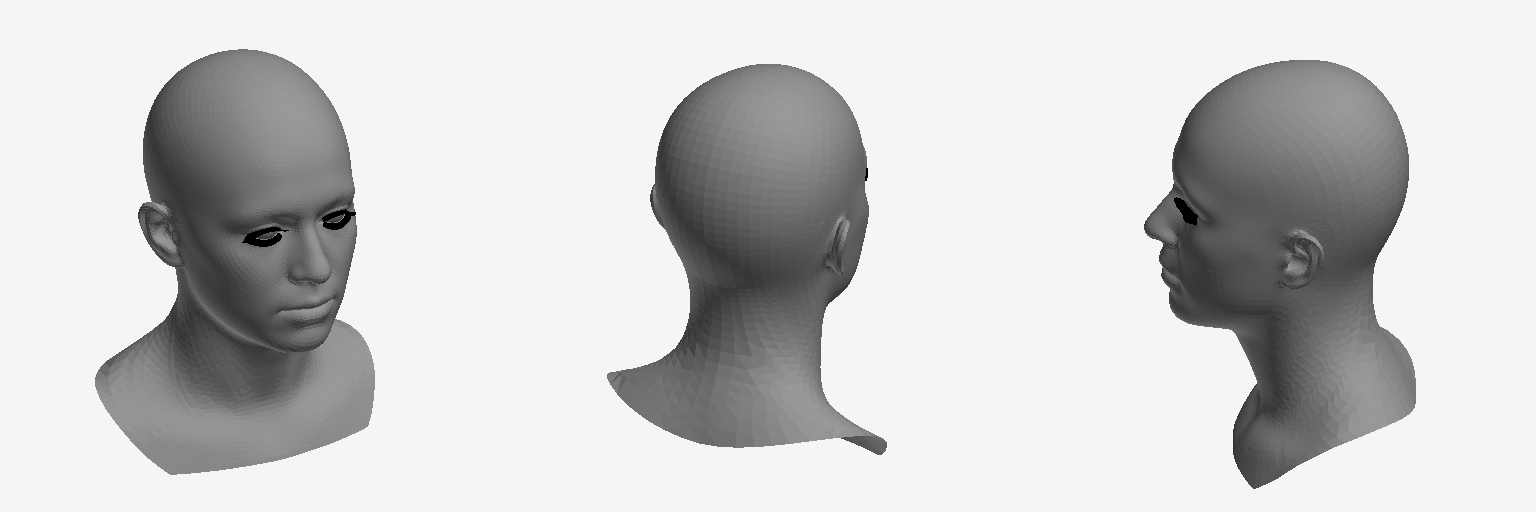
The model's file is identity099.obj.
3 renders of one model, left to right at view 1: azimuth 30°, elevation 25°; view 2: azimuth 150°, elevation 25°; view 3: azimuth 270°, elevation 25°, orthographic.
Size of the model in its own units: 24.83 by 33.83 by 22.3.